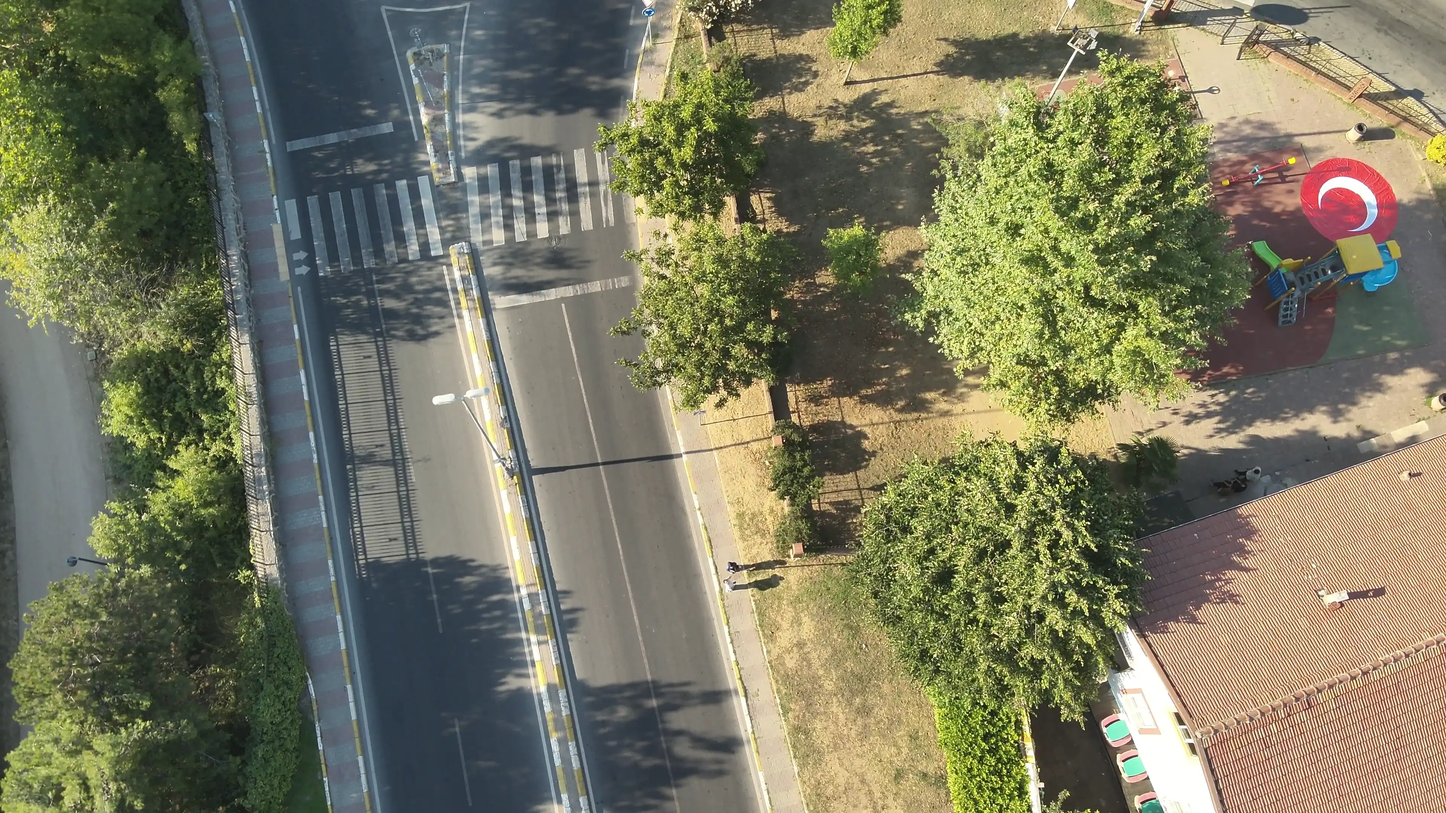person: (719, 575, 739, 593), (724, 560, 742, 577)
